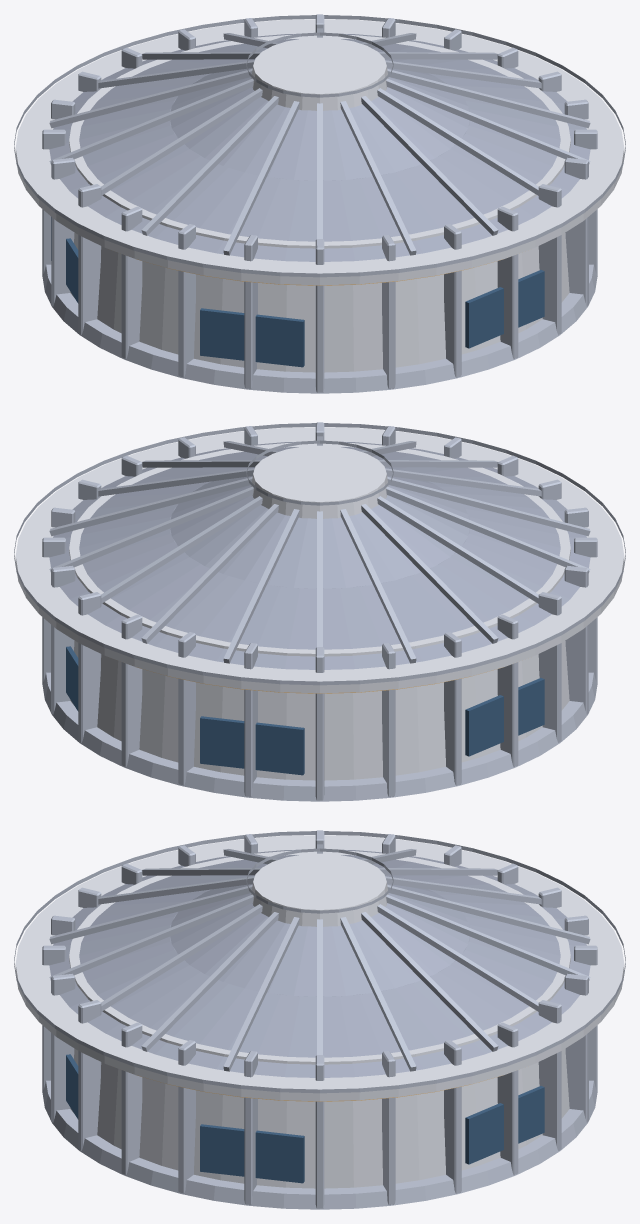
File: carousel.glb
The picture shows the model from 3 angles, top to bottom: view 1: azimuth 30°, elevation 25°; view 2: azimuth 150°, elevation 25°; view 3: azimuth 270°, elevation 25°; orthographic projection.
Visible parts, largest first — view 1: carousel_silver, carousel_white, carousel_roof, carousel_glass; view 2: carousel_silver, carousel_white, carousel_roof, carousel_glass; view 3: carousel_silver, carousel_white, carousel_roof, carousel_glass.
Part boxes in pixels (x1,y1,x2,y2): carousel_silver: (14,14,625,393); carousel_white: (15,19,624,372); carousel_roof: (49,33,590,261); carousel_glass: (51,217,544,367); carousel_silver: (14,422,625,801); carousel_white: (15,427,624,780); carousel_roof: (49,441,590,669); carousel_glass: (66,646,544,775); carousel_silver: (14,830,625,1209); carousel_white: (15,835,624,1188); carousel_roof: (49,849,590,1077); carousel_glass: (66,1054,544,1183).
Size of the model in its own units: 36.6 by 14.05 by 36.6.
